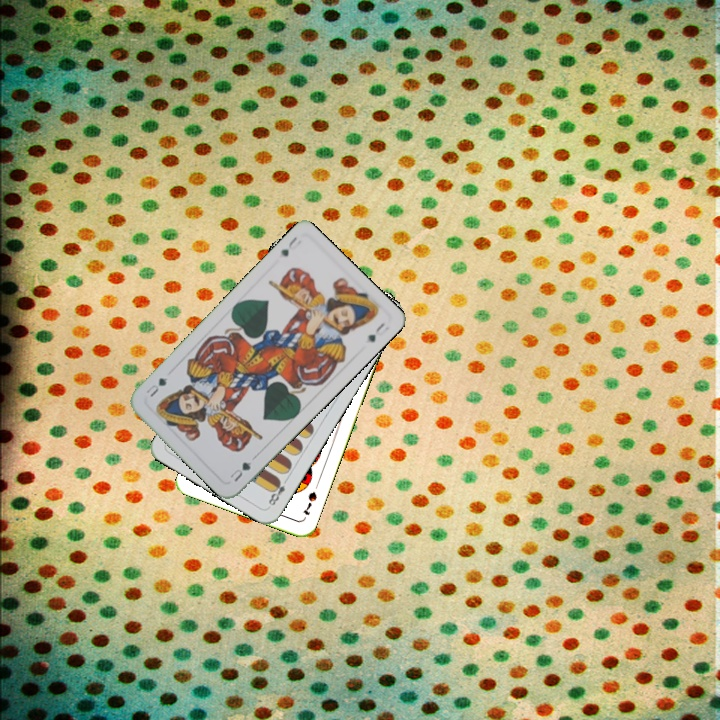E8: (264, 473, 291, 508)
GU: (226, 458, 254, 485), (277, 232, 304, 259)
S7: (299, 488, 319, 518)
